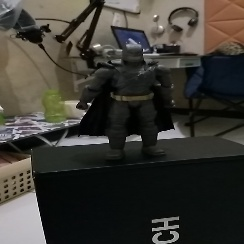batman: (79, 42, 179, 162)
